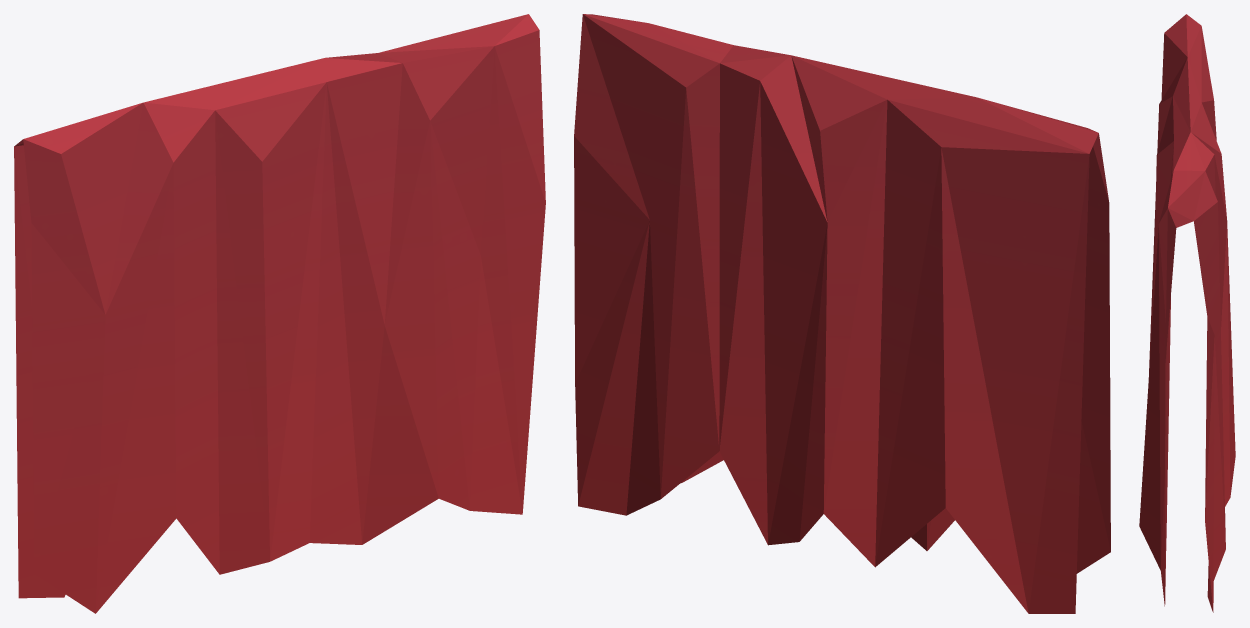
The model's file is Cloth_1A.fbx.
The picture shows the model from 3 angles, left to right: view 1: azimuth 30°, elevation 25°; view 2: azimuth 150°, elevation 25°; view 3: azimuth 270°, elevation 25°; orthographic projection. The views are drawn at different scales.
Visible parts, largest first — view 1: polySurface10644; view 2: polySurface10644; view 3: polySurface10644.
Boxes of the visible parts, <box> form: polySurface10644: <box>14,14,545,613</box>; polySurface10644: <box>574,14,1110,613</box>; polySurface10644: <box>1139,14,1235,612</box>.
Bounding box in the file's own units: 197 × 180 × 38.9.
